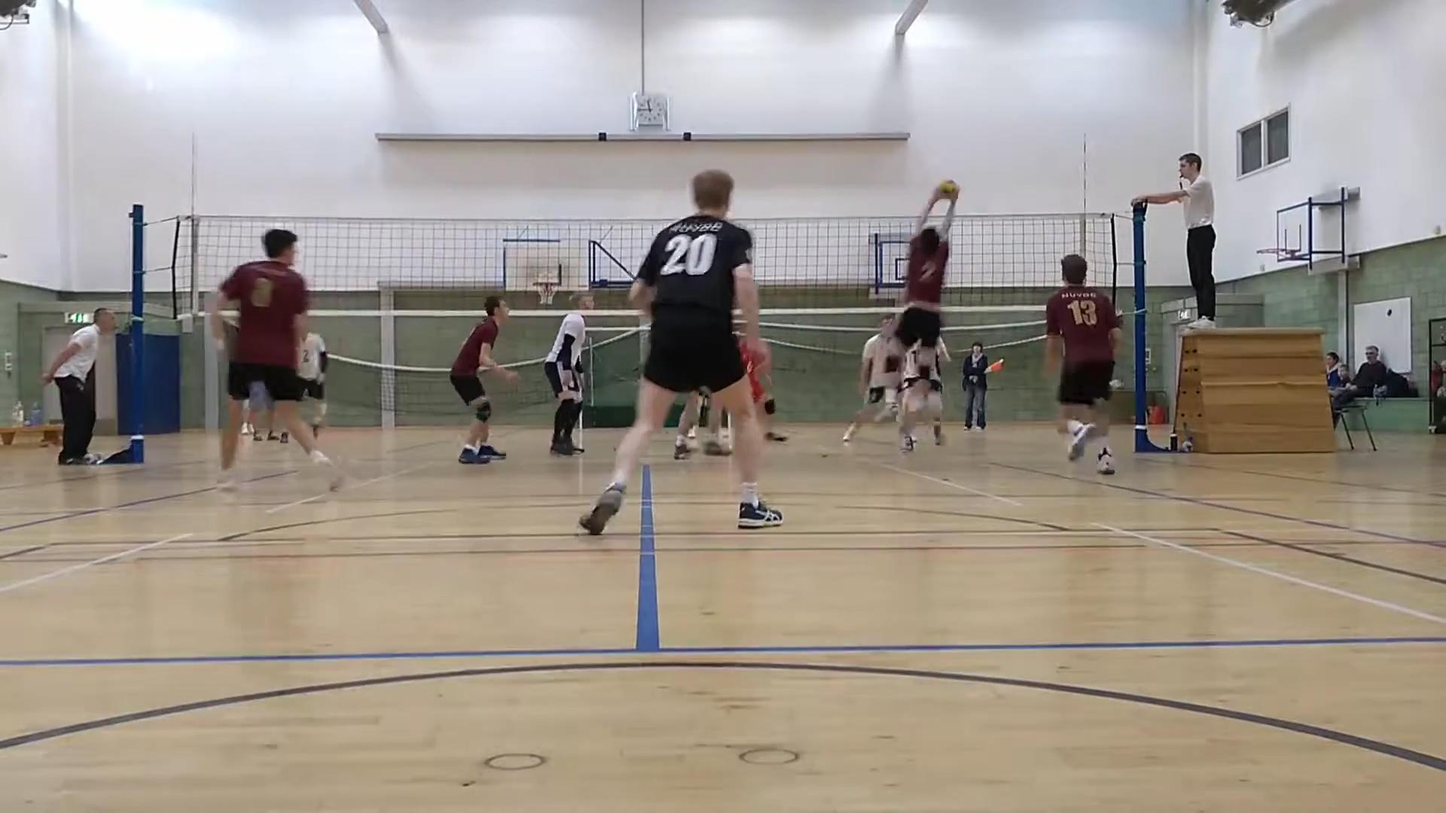Block: (877, 193, 963, 456)
Player: (580, 170, 782, 534), (209, 231, 341, 489), (1045, 254, 1121, 473), (450, 296, 518, 464), (544, 292, 594, 455), (843, 315, 901, 442), (898, 338, 950, 444), (737, 335, 786, 442), (740, 336, 786, 441), (929, 336, 951, 444), (673, 391, 706, 459)
ball: (935, 181, 963, 197)
